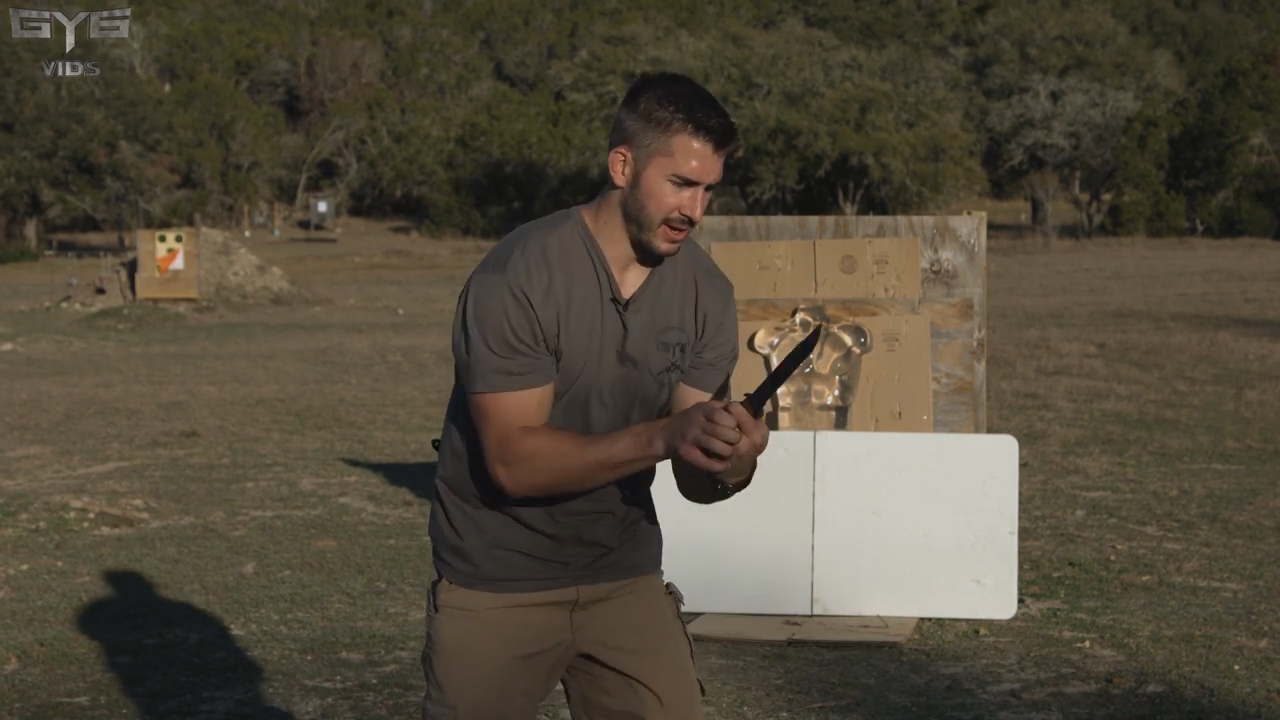knife: (671, 309, 833, 477)
